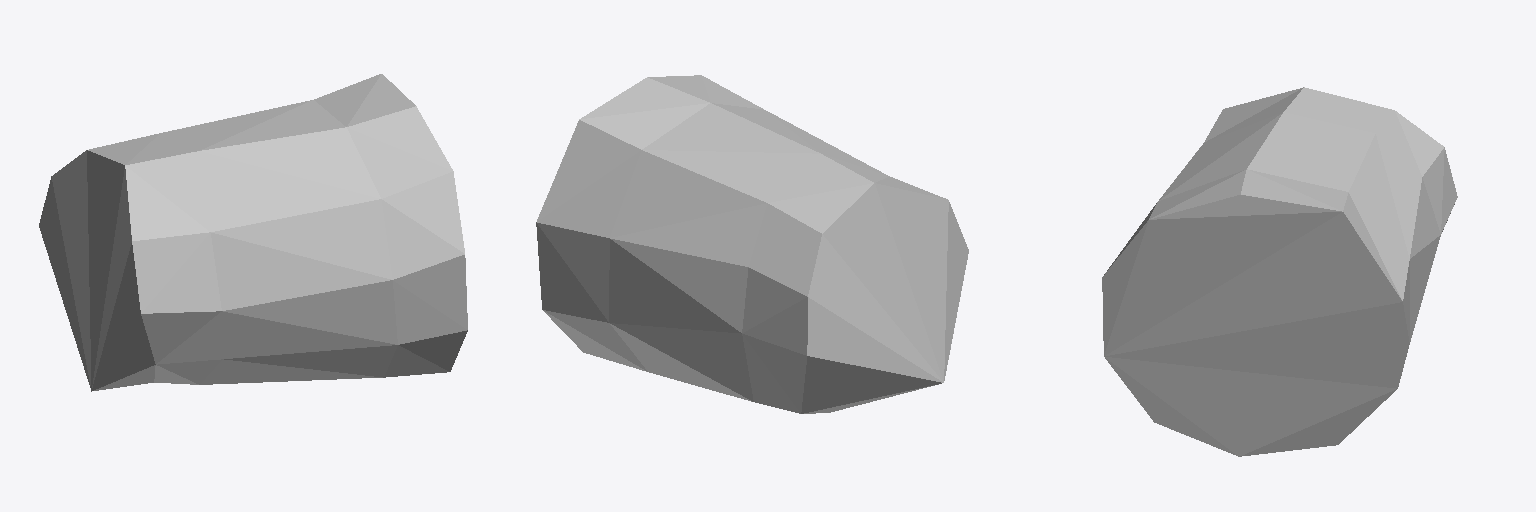
Rendered from index2.obj.
3 views of the same model, side by side, from view 1: azimuth 30°, elevation 25°; view 2: azimuth 150°, elevation 25°; view 3: azimuth 270°, elevation 25° (orthographic).
Size of the model in its own units: 24.51 by 17.87 by 22.15.